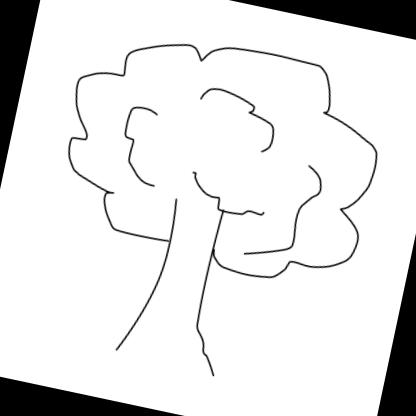crown_cloud: (44, 15, 392, 296)
trunk_straight: (136, 252, 216, 336)
